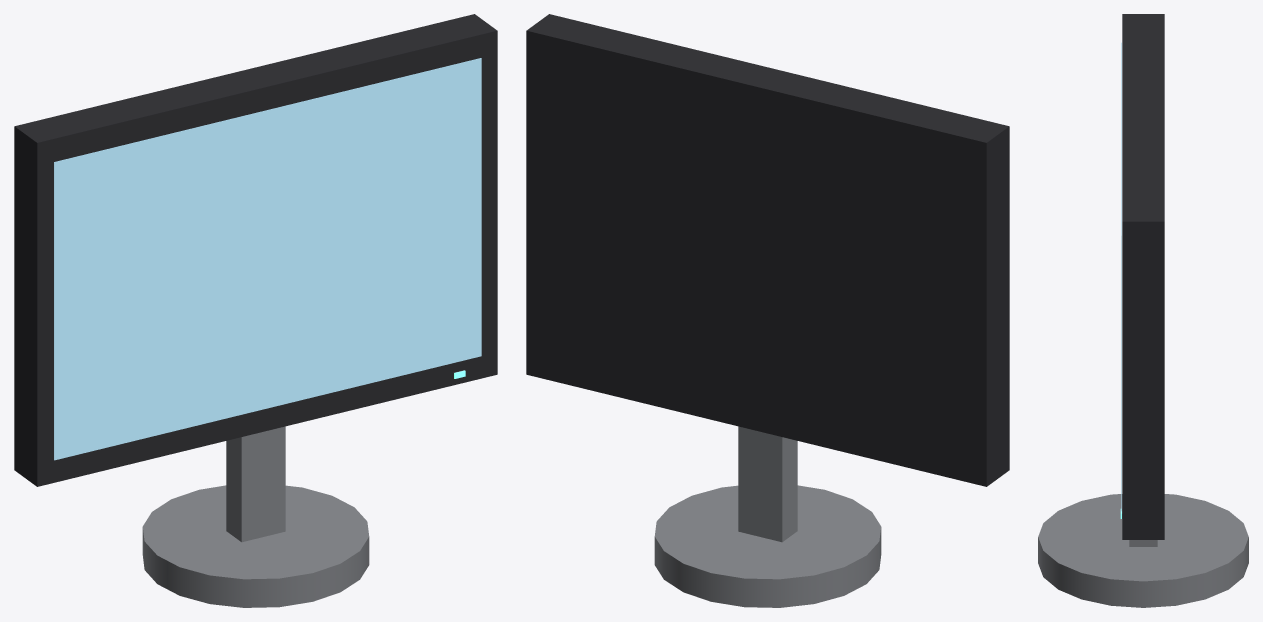
File: bench-monitor.glb
The picture shows the model from 3 angles, left to right: view 1: azimuth 30°, elevation 25°; view 2: azimuth 150°, elevation 25°; view 3: azimuth 270°, elevation 25°; orthographic projection. The views are drawn at different scales.
Parts seen in each view (by area): view 1: screen, body; view 2: body; view 3: body, screen.
Part boxes in pixels (left/top/right/bottom): screen: left=54, top=58, right=481, bottom=460; body: left=14, top=14, right=497, bottom=607; body: left=526, top=14, right=1009, bottom=607; body: left=1038, top=14, right=1248, bottom=607; screen: left=1121, top=42, right=1121, bottom=511.
Size of the model in its own units: 0.42 by 0.42 by 0.18.
